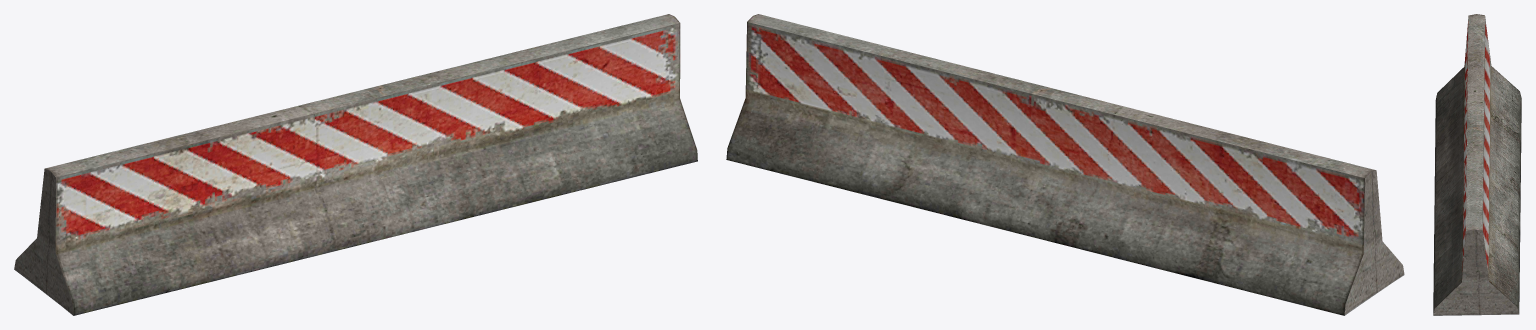
Rendered from Block.fbx.
3 views of the same model, side by side, from view 1: azimuth 30°, elevation 25°; view 2: azimuth 150°, elevation 25°; view 3: azimuth 270°, elevation 25° (orthographic). The views are drawn at different scales.
Visible parts, largest first — view 1: polySurface10; view 2: polySurface10; view 3: polySurface10.
Boxes of the visible parts, box(x1,y1,x2,y2) form: polySurface10: box(14, 14, 697, 315); polySurface10: box(726, 14, 1404, 315); polySurface10: box(1433, 14, 1521, 315).
Size of the model in its own units: 697 by 134 by 118.
